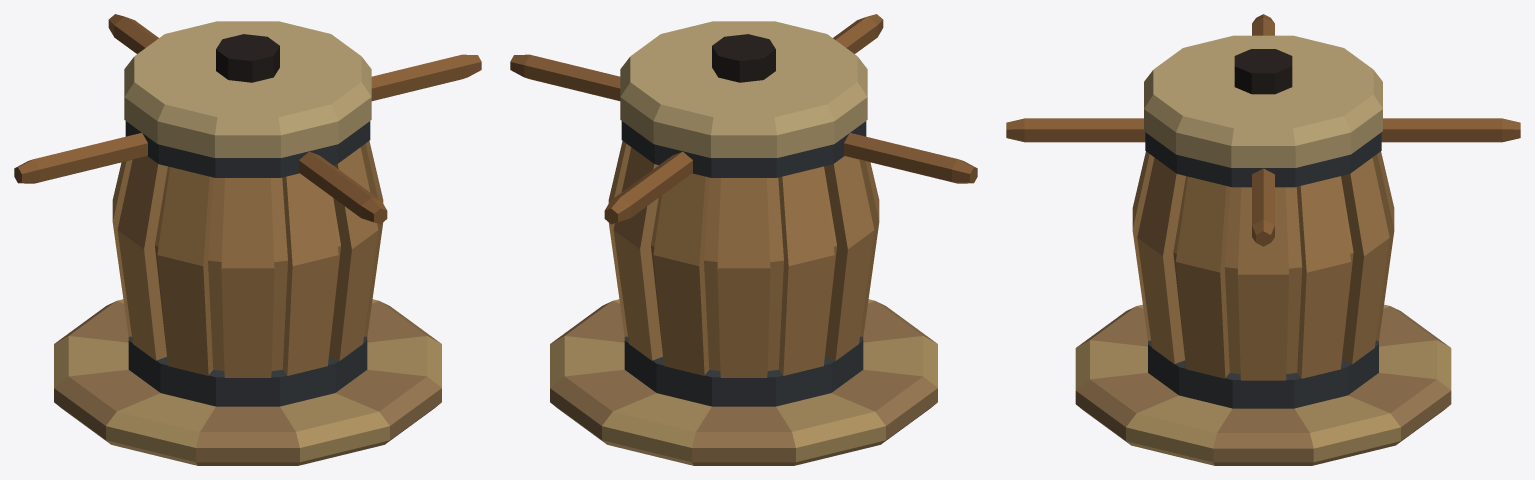
File: capstan-fa3917.glb
3 views of the same model, side by side, from view 1: azimuth 30°, elevation 25°; view 2: azimuth 150°, elevation 25°; view 3: azimuth 270°, elevation 25° (orthographic). The views are drawn at different scales.
Visible parts, largest first — view 1: capstan-drum, capstan-deck, capstan-bars; view 2: capstan-drum, capstan-deck, capstan-bars; view 3: capstan-drum, capstan-deck, capstan-bars.
Boxes of the visible parts, x1,y1,x2,y2 form: capstan-drum: [112, 21, 383, 406]; capstan-deck: [54, 299, 441, 465]; capstan-bars: [14, 14, 481, 224]; capstan-drum: [608, 21, 879, 406]; capstan-deck: [550, 299, 937, 465]; capstan-bars: [510, 14, 977, 224]; capstan-drum: [1132, 35, 1394, 408]; capstan-deck: [1075, 304, 1451, 465]; capstan-bars: [1006, 14, 1520, 246].
Size of the model in its own units: 1.56 by 1.1 by 1.56.
